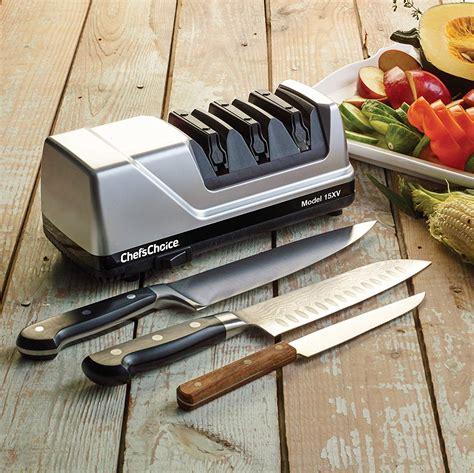knife: (12, 218, 378, 360), (83, 258, 433, 389), (174, 291, 425, 409)
